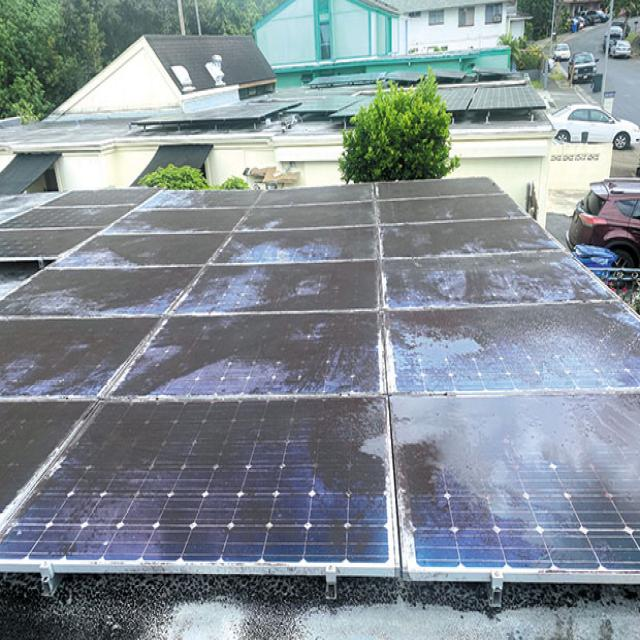dust-solar-panel: (0, 177, 640, 571)
